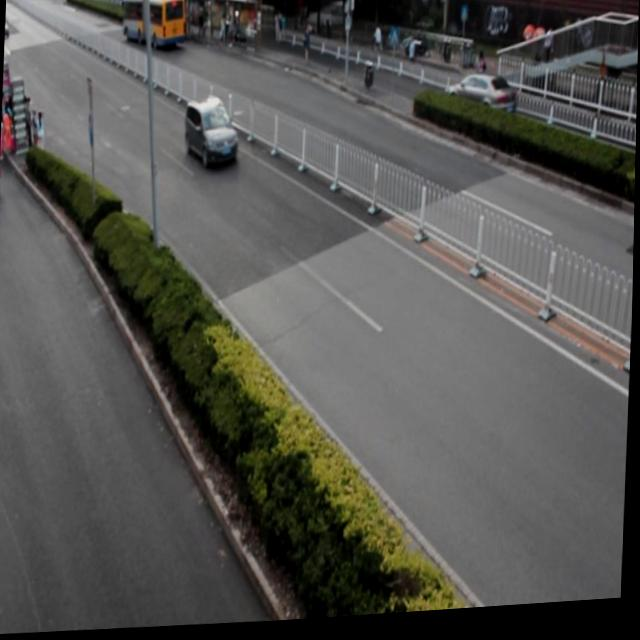car: (444, 78, 517, 142), (183, 98, 242, 175)
